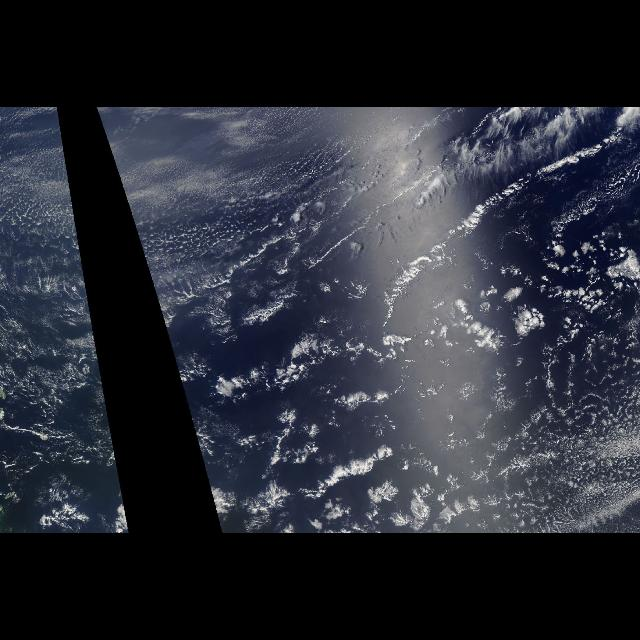Flower: (412, 245, 640, 388)
Sugar: (98, 113, 374, 294), (8, 113, 90, 294)
